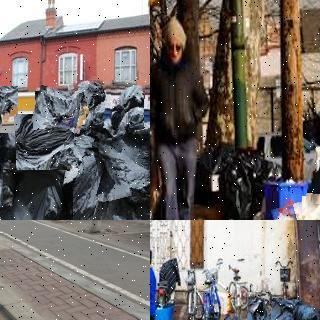Garbage: (46, 145, 113, 220), (94, 130, 150, 198), (15, 113, 75, 174), (2, 169, 73, 220), (75, 96, 138, 150), (33, 88, 87, 132), (104, 80, 145, 130), (69, 77, 109, 115), (267, 202, 318, 220), (0, 86, 18, 133), (247, 291, 272, 320), (260, 300, 293, 320), (292, 302, 320, 320), (302, 196, 320, 220)
